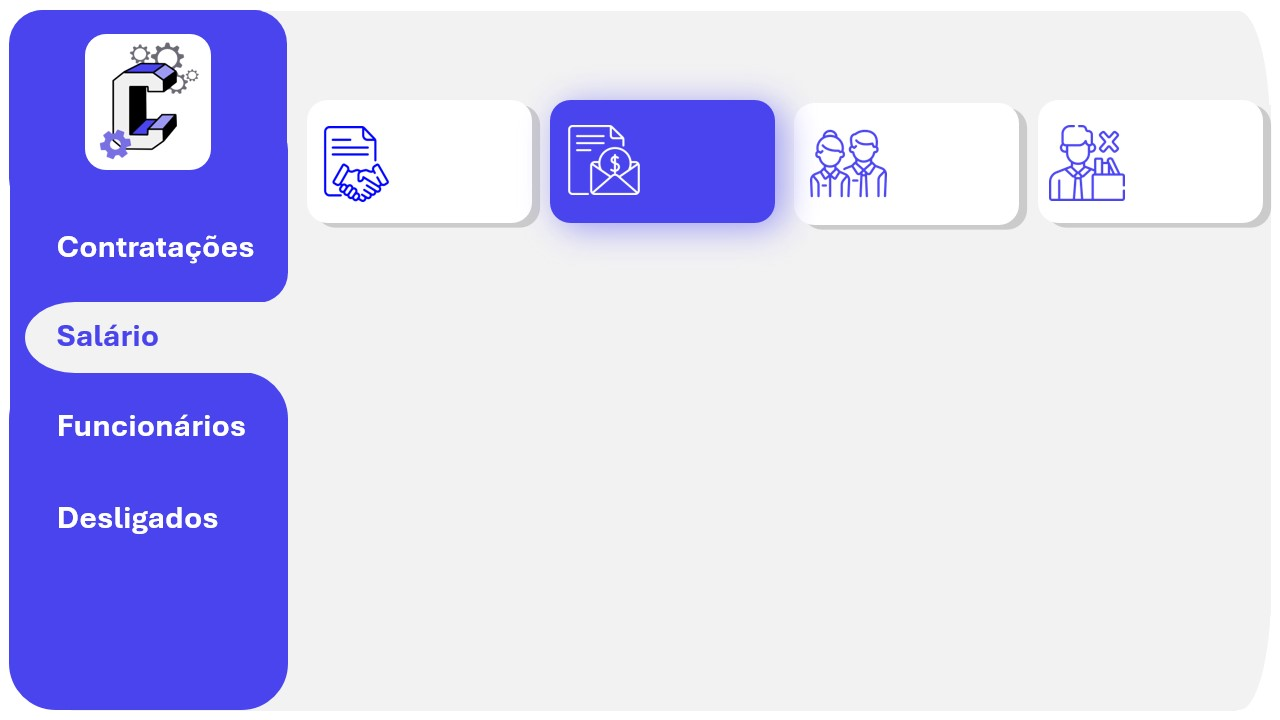

This screenshot's page, from the dashboard's own definition file:
{"tool":"powerbi","page":{"name":"Página 2","canvas":[1280,720],"ordinal":1},"visuals":[{"type":"actionButton","box":[39.4,392.8,216.7,59.1],"z":0},{"type":"actionButton","box":[39.4,486.7,216.7,59.1],"z":1000},{"type":"actionButton","box":[39.4,214.4,232.9,59.1],"z":2000},{"type":"textbox","box":[565.5,29,385.9,48.7],"z":3000},{"type":"cardVisual","fields":{"Data":["CountNonNull(exemplo_interativo.FuncionarioID)"]},"box":[392.8,95,119.3,74.2],"z":4000},{"type":"textbox","box":[403.2,158.7,122.8,59.1],"z":5000},{"type":"textbox","box":[648.9,158.7,122.8,59.1],"z":6000},{"type":"textbox","box":[889.9,158.7,122.8,59.1],"z":7000},{"type":"textbox","box":[1137.9,158.7,122.8,59.1],"z":8000},{"type":"cardVisual","fields":{"Data":["exemplo_interativo.qtd_ativos"]},"box":[889.9,100.8,76.5,61.4],"z":9000},{"type":"cardVisual","fields":{"Data":["exemplo_interativo.qtd_desligados"]},"box":[1137.9,102,76.5,61.4],"z":10000},{"type":"cardVisual","fields":{"Data":["Sum(exemplo_interativo.Salario)"]},"box":[628,102,130.9,61.4],"z":11000},{"type":"actionButton","box":[39.4,301.3,140.2,59.1],"z":12000},{"type":"clusteredBarChart","title":"Folha salarial por área","fields":{"Category":["exemplo_interativo.Area"],"Y":["Sum(exemplo_interativo.Salario)"]},"box":[325.6,244.5,312.9,446.1],"z":13000},{"type":"columnChart","title":"Folha salarial por ano","fields":{"Category":["exemplo_interativo.Ano"],"Y":["Sum(exemplo_interativo.Salario)"]},"box":[654.7,244.5,606,178.4],"z":14000},{"type":"azureMap","title":"Folha salarial por Cidade","fields":{"Category":["exemplo_interativo.Cidade"],"Size":["Sum(exemplo_interativo.Salario)"]},"box":[994.2,441.5,258.4,249.1],"z":15000},{"type":"pieChart","title":"Folha salarial por tipo de Adulto","fields":{"Category":["exemplo_interativo.Tipo de Adulto"],"Y":["Sum(exemplo_interativo.Salario)"]},"box":[654.7,441.5,322.1,249.1],"z":16000}]}

Visuals, with their boxes in screenshot pixels (x1, y1, x2, y2), scaled from the page's 1280x720 canvas onto the 1280x720 screenshot:
actionButton: {"x1": 39, "y1": 393, "x2": 256, "y2": 452}
actionButton: {"x1": 39, "y1": 487, "x2": 256, "y2": 546}
actionButton: {"x1": 39, "y1": 214, "x2": 272, "y2": 274}
textbox: {"x1": 566, "y1": 29, "x2": 951, "y2": 78}
cardVisual - CountNonNull(exemplo_interativo.FuncionarioID): {"x1": 393, "y1": 95, "x2": 512, "y2": 169}
textbox: {"x1": 403, "y1": 159, "x2": 526, "y2": 218}
textbox: {"x1": 649, "y1": 159, "x2": 772, "y2": 218}
textbox: {"x1": 890, "y1": 159, "x2": 1013, "y2": 218}
textbox: {"x1": 1138, "y1": 159, "x2": 1261, "y2": 218}
cardVisual - exemplo_interativo.qtd_ativos: {"x1": 890, "y1": 101, "x2": 966, "y2": 162}
cardVisual - exemplo_interativo.qtd_desligados: {"x1": 1138, "y1": 102, "x2": 1214, "y2": 163}
cardVisual - Sum(exemplo_interativo.Salario): {"x1": 628, "y1": 102, "x2": 759, "y2": 163}
actionButton: {"x1": 39, "y1": 301, "x2": 180, "y2": 360}
"Folha salarial por área" clusteredBarChart: {"x1": 326, "y1": 244, "x2": 638, "y2": 691}
"Folha salarial por ano" columnChart: {"x1": 655, "y1": 244, "x2": 1261, "y2": 423}
"Folha salarial por Cidade" azureMap: {"x1": 994, "y1": 442, "x2": 1253, "y2": 691}
"Folha salarial por tipo de Adulto" pieChart: {"x1": 655, "y1": 442, "x2": 977, "y2": 691}
